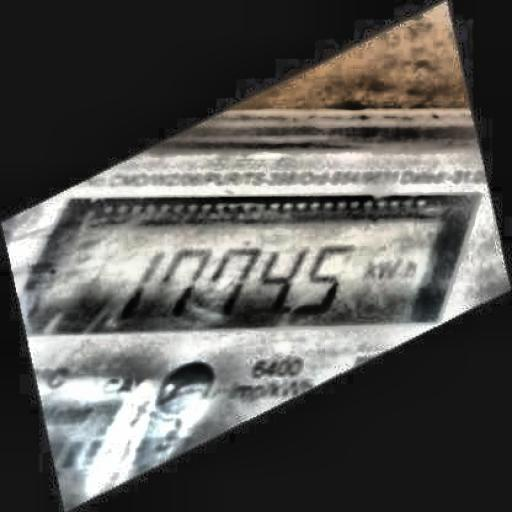DISPLAY_REGION: (14, 182, 490, 341)
SERIAL_REGION: (117, 238, 433, 315)
